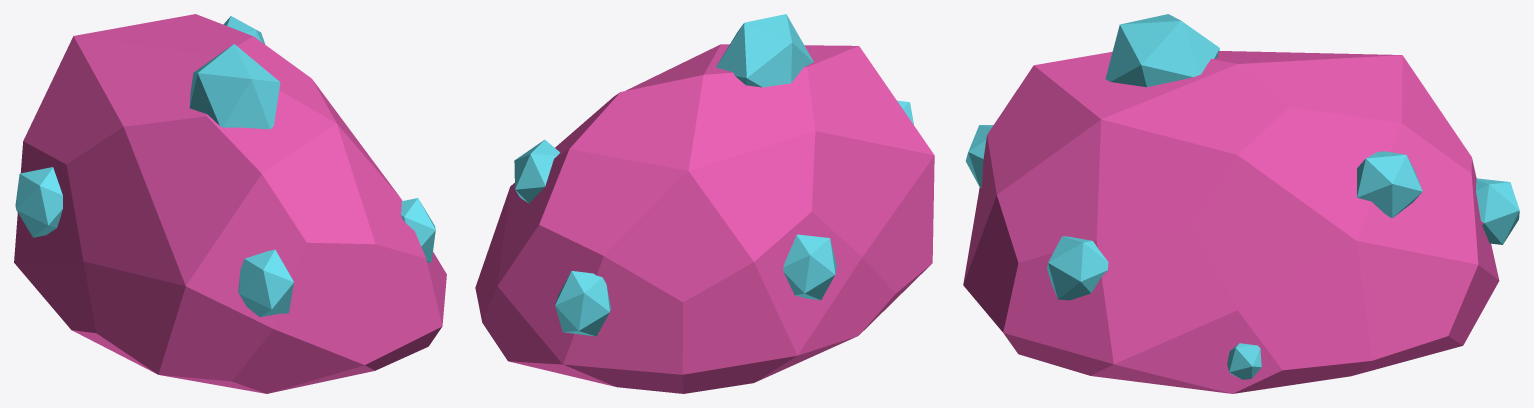
The model's file is Mushroom_Grass_04.fbx.
3 views of the same model, side by side, from view 1: azimuth 30°, elevation 25°; view 2: azimuth 150°, elevation 25°; view 3: azimuth 270°, elevation 25° (orthographic). The views are drawn at different scales.
Parts seen in each view (by area): view 1: Vege_Grass_04; view 2: Vege_Grass_04; view 3: Vege_Grass_04.
Part boxes in pixels (x1=…): Vege_Grass_04: x1=14, y1=14, x2=446, y2=393; Vege_Grass_04: x1=475, y1=14, x2=934, y2=393; Vege_Grass_04: x1=963, y1=14, x2=1519, y2=393.
Size of the model in its own units: 121 by 90.06 by 161.
